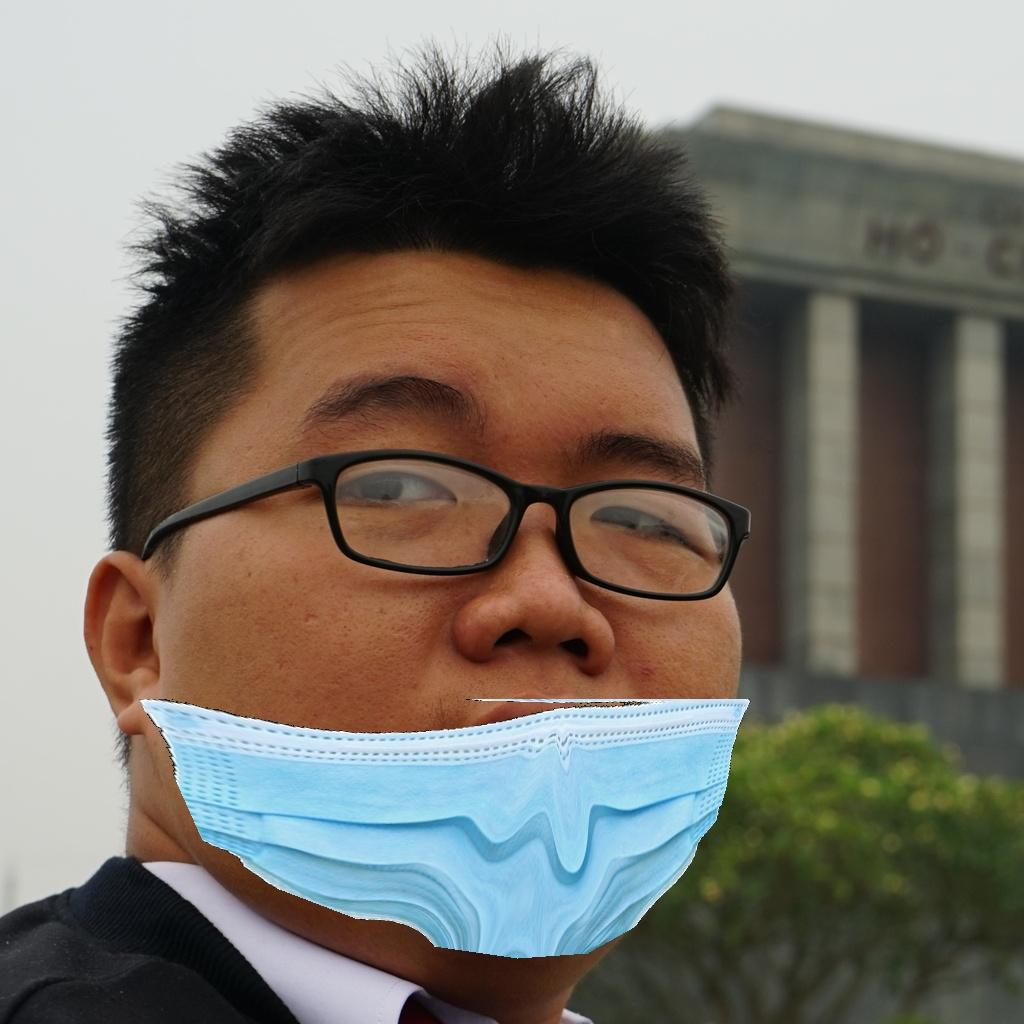Máscara Incorreta: (221, 298, 768, 920)
